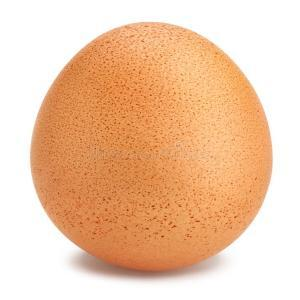Egg: (29, 19, 278, 275)
